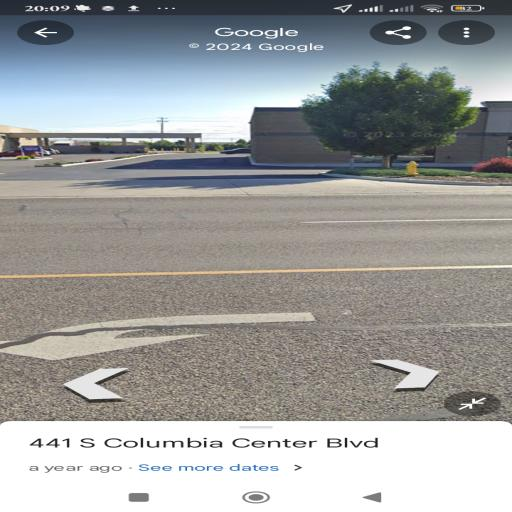Roads: (9, 162, 512, 418)
Trees: (301, 65, 476, 181)
